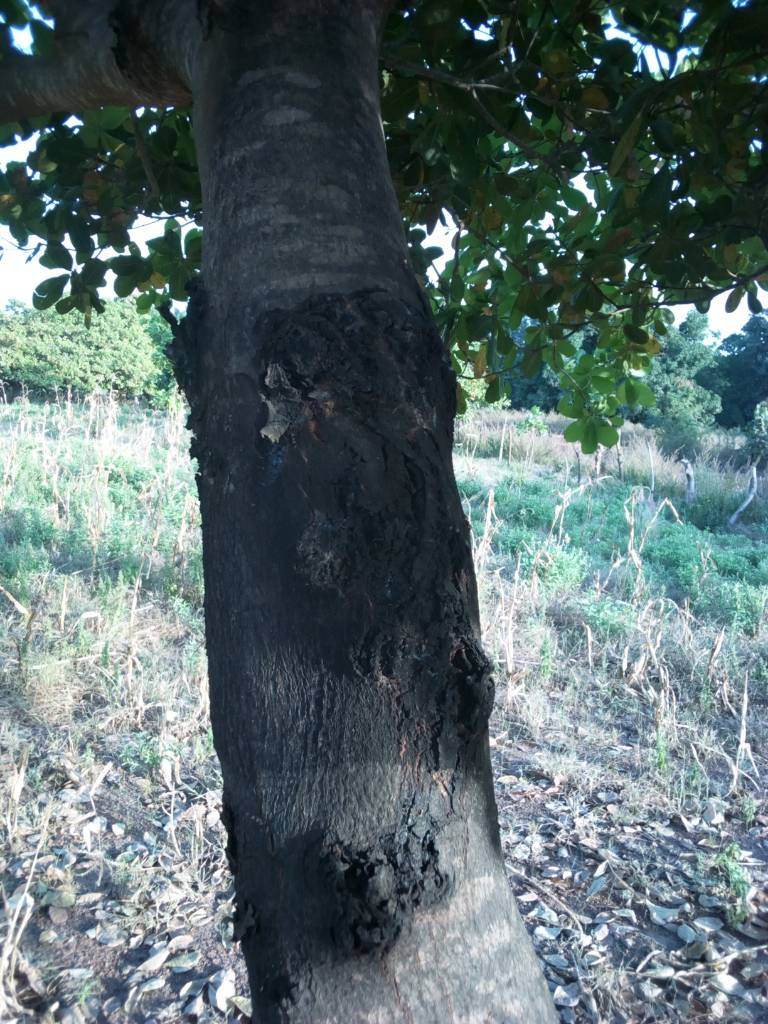Gommose: (252, 294, 493, 957)
